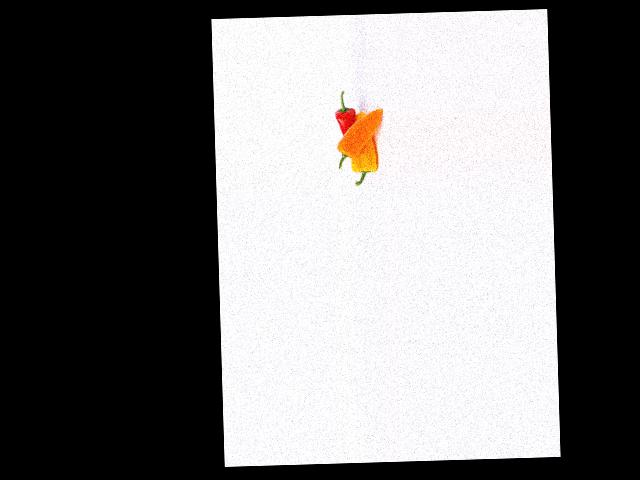bell_pepper: (347, 129, 383, 188)
